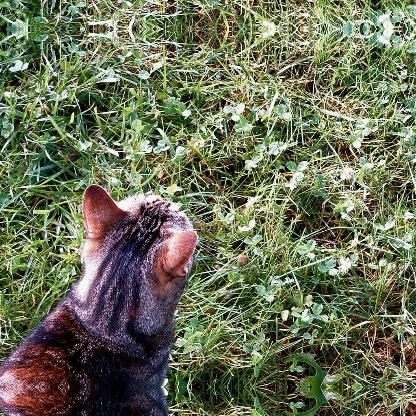Cat: (0, 182, 197, 386)
